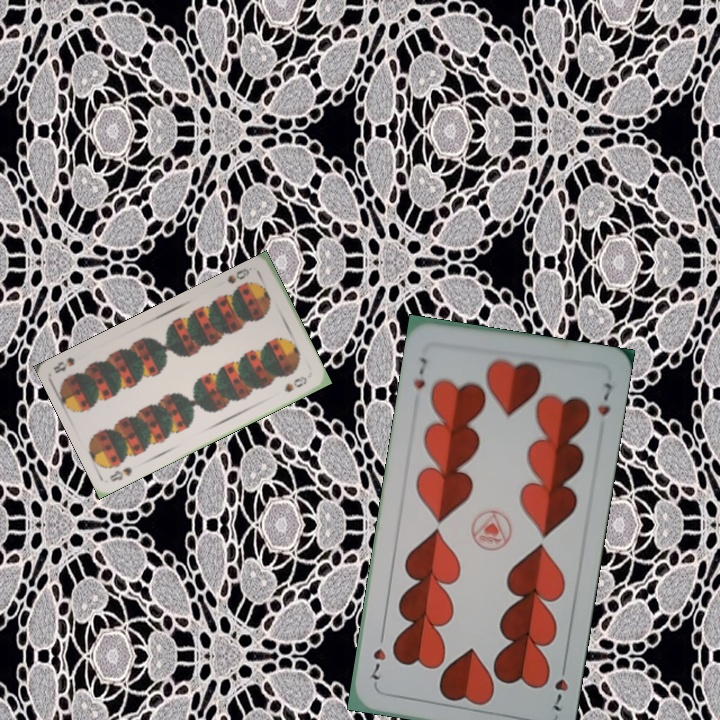H7: (549, 657, 571, 714), (409, 353, 429, 392)
S8: (223, 264, 252, 286), (105, 463, 135, 484)
